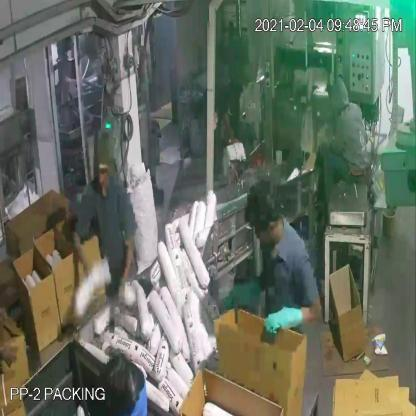glove: (262, 292, 313, 350), (217, 274, 273, 319)
no_glove: (107, 224, 140, 298), (68, 223, 102, 280)
